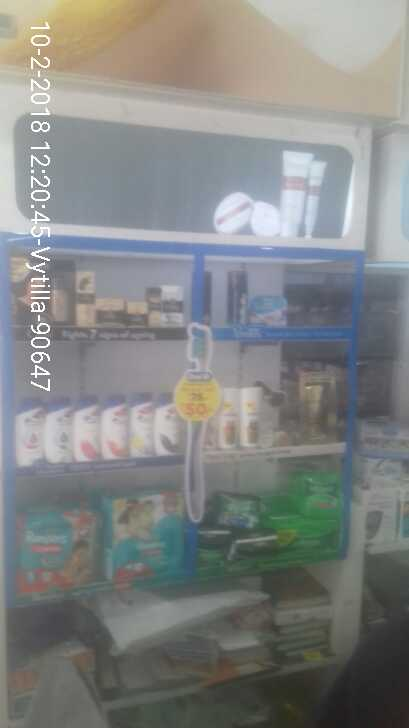gillete: (229, 271, 248, 327), (196, 269, 212, 327)
venus: (252, 296, 289, 325)
